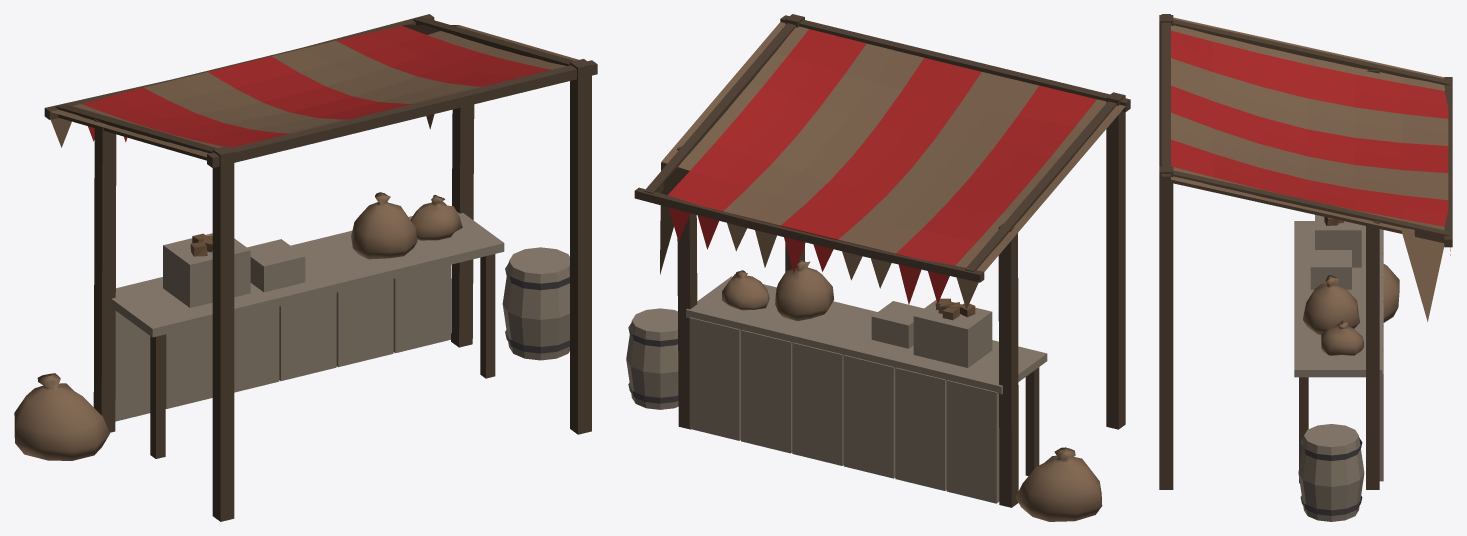
Rendered from market_stall.glb.
3 views of the same model, side by side, from view 1: azimuth 30°, elevation 25°; view 2: azimuth 150°, elevation 25°; view 3: azimuth 270°, elevation 25° (orthographic). The views are drawn at different scales.
Parts seen in each view (by area): view 1: market_stall; view 2: market_stall; view 3: market_stall.
Boxes of the visible parts, bbox=[...] form: market_stall: bbox=[14, 14, 597, 521]; market_stall: bbox=[626, 14, 1130, 521]; market_stall: bbox=[1159, 14, 1452, 521].
Size of the model in its own units: 3.94 by 2.56 by 2.13.
